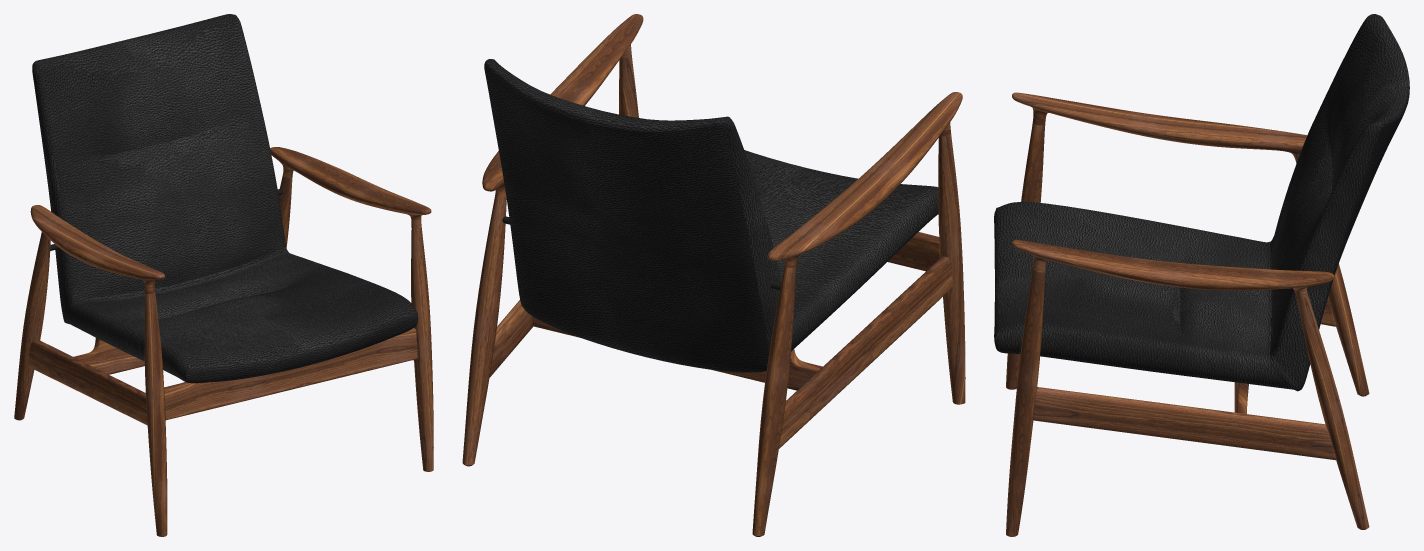
The model's file is Rivage Easy Chair_model-viewer_ver2022_detouch_04.glb.
3 renders of one model, left to right at view 1: azimuth 30°, elevation 25°; view 2: azimuth 150°, elevation 25°; view 3: azimuth 270°, elevation 25°, orthographic. The views are drawn at different scales.
Visible parts, largest first — view 1: RivageEasyChair_ID1, RivageEasyChair_ID3, RivageEasyChair_ID2; view 2: RivageEasyChair_ID1, RivageEasyChair_ID3, RivageEasyChair_ID2; view 3: RivageEasyChair_ID1, RivageEasyChair_ID3, RivageEasyChair_ID2.
Part boxes in pixels (x1,y1,x2,y2): RivageEasyChair_ID1: [32, 14, 418, 383]; RivageEasyChair_ID3: [14, 175, 433, 536]; RivageEasyChair_ID2: [30, 147, 431, 293]; RivageEasyChair_ID1: [484, 59, 938, 372]; RivageEasyChair_ID3: [462, 55, 965, 536]; RivageEasyChair_ID2: [482, 14, 962, 267]; RivageEasyChair_ID1: [994, 14, 1409, 391]; RivageEasyChair_ID3: [1006, 122, 1369, 536]; RivageEasyChair_ID2: [1012, 92, 1334, 298].
Size of the model in its own units: 69.22 by 78.43 by 75.29.
3 materials, 2 textured.
